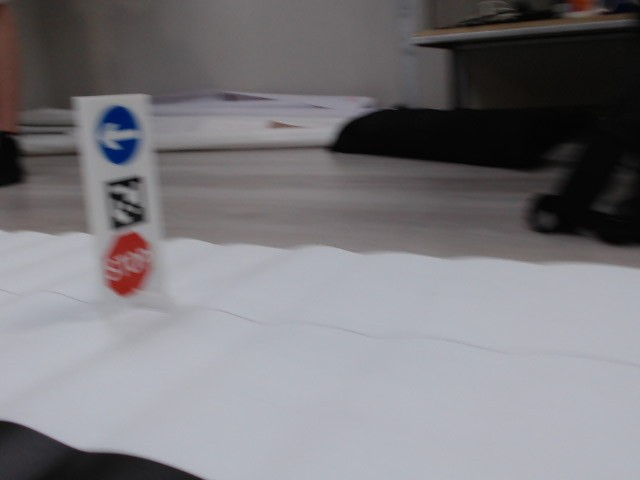Stop: (105, 232, 150, 294)
